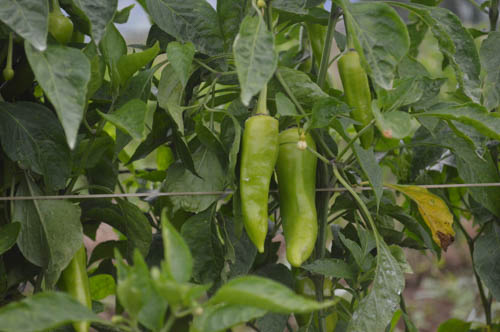ChiliPepper: (278, 127, 320, 270), (238, 118, 280, 257), (337, 51, 376, 148), (58, 244, 93, 327)
